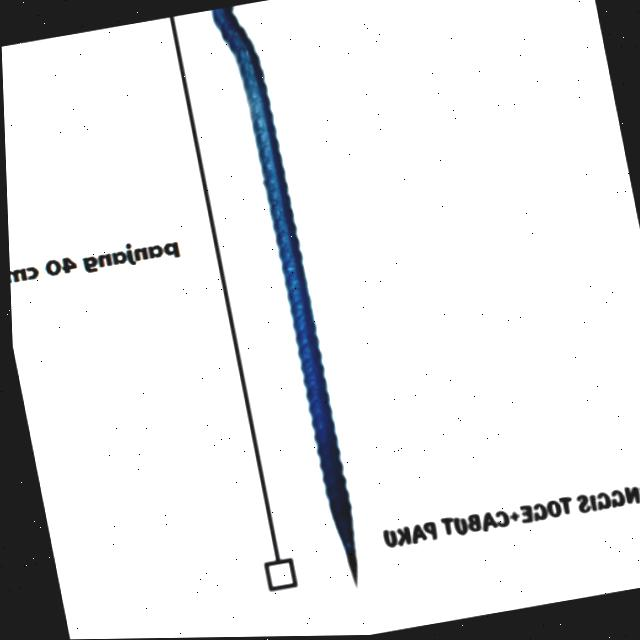crow bar: (209, 0, 371, 594)
